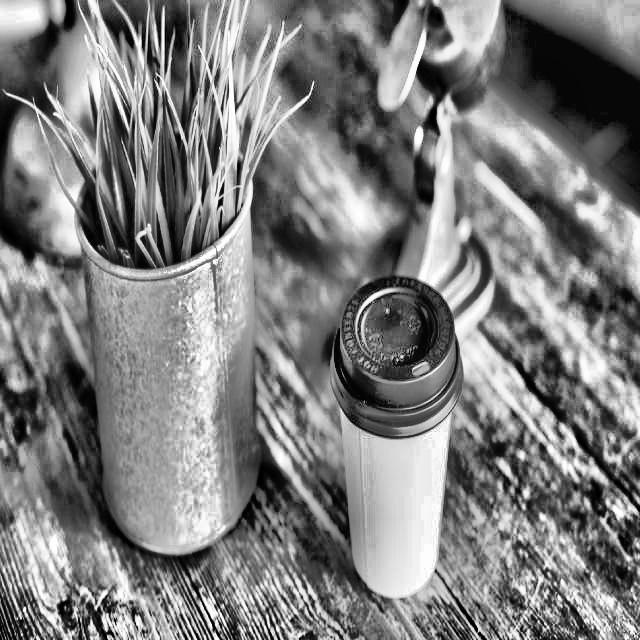plants: (27, 0, 323, 586)
